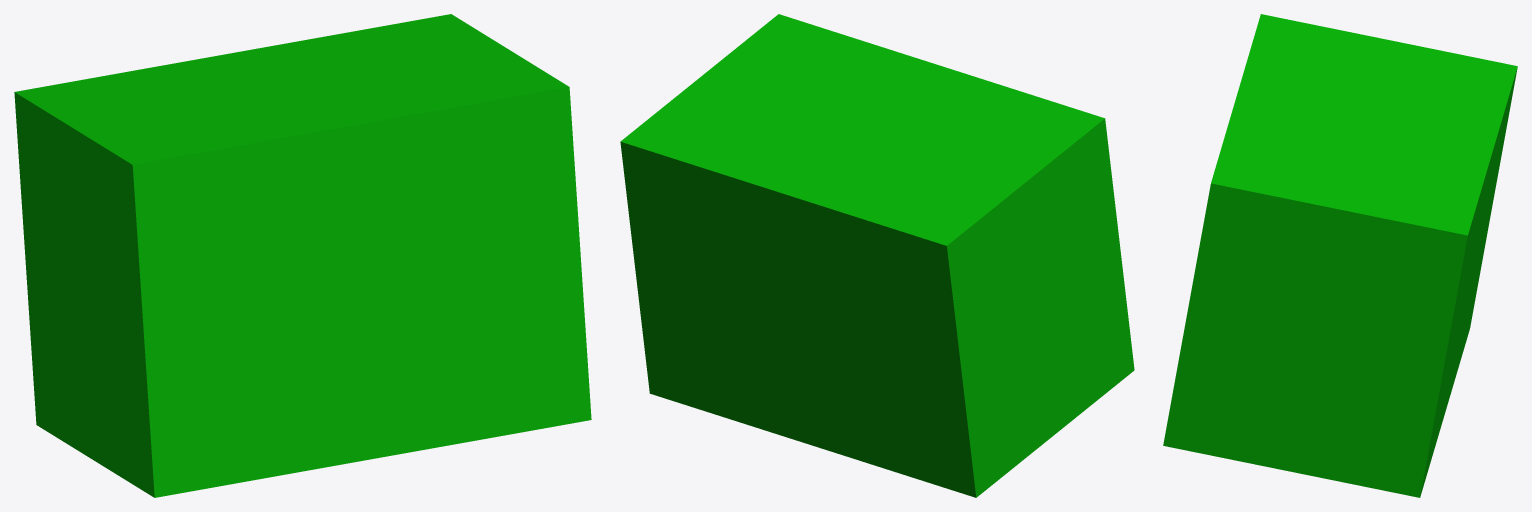
The model's file is POWER ARCHITECTURE__ELEC BOARD COMPONENTS__IMO-2108 4 string - DC disconnect.glb.
The picture shows the model from 3 angles, left to right: view 1: azimuth 30°, elevation 25°; view 2: azimuth 150°, elevation 25°; view 3: azimuth 270°, elevation 25°; orthographic projection. The views are drawn at different scales.
Parts seen in each view (by area): view 1: IMO-2108 4 string - DC disconnect; view 2: IMO-2108 4 string - DC disconnect; view 3: IMO-2108 4 string - DC disconnect.
Part boxes in pixels (<box>): IMO-2108 4 string - DC disconnect: <box>14,14,591,497</box>; IMO-2108 4 string - DC disconnect: <box>620,14,1134,497</box>; IMO-2108 4 string - DC disconnect: <box>1163,14,1517,497</box>.
Size of the model in its own units: 0.2608 by 0.199 by 0.2108.
